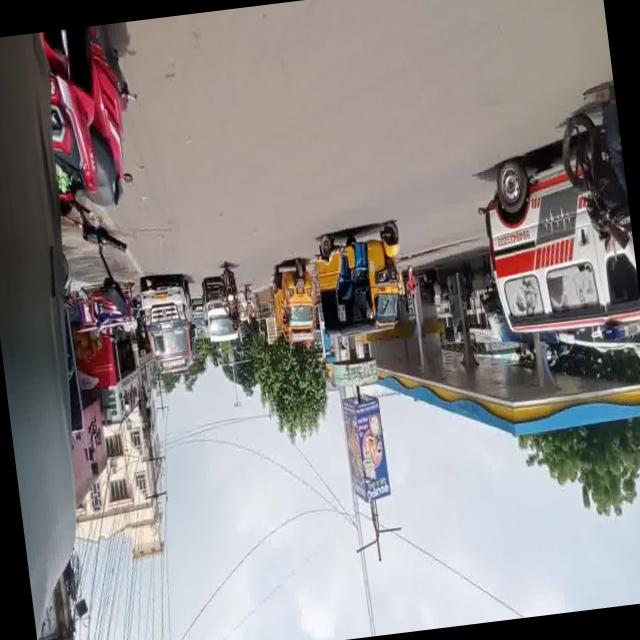ambulance: (475, 132, 640, 346), (128, 267, 210, 388)
